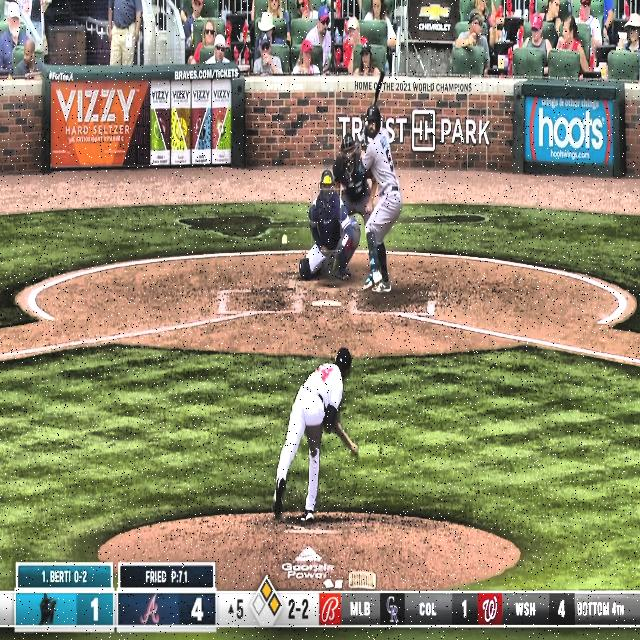baseball: (282, 235, 288, 245)
